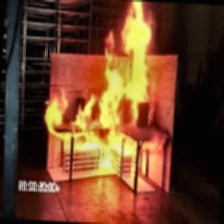fire: (39, 0, 183, 197)
